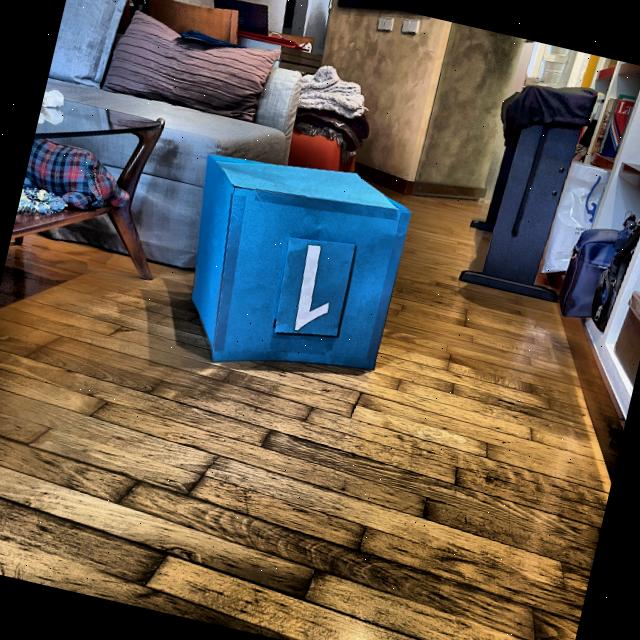blue box: (157, 134, 421, 402)
one: (284, 240, 344, 340)
